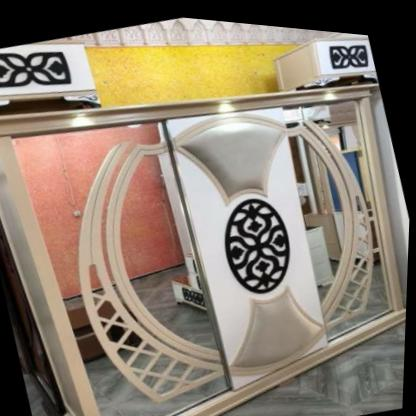Ceramic floor: (216, 314, 408, 416)
Closet: (0, 72, 411, 416)
